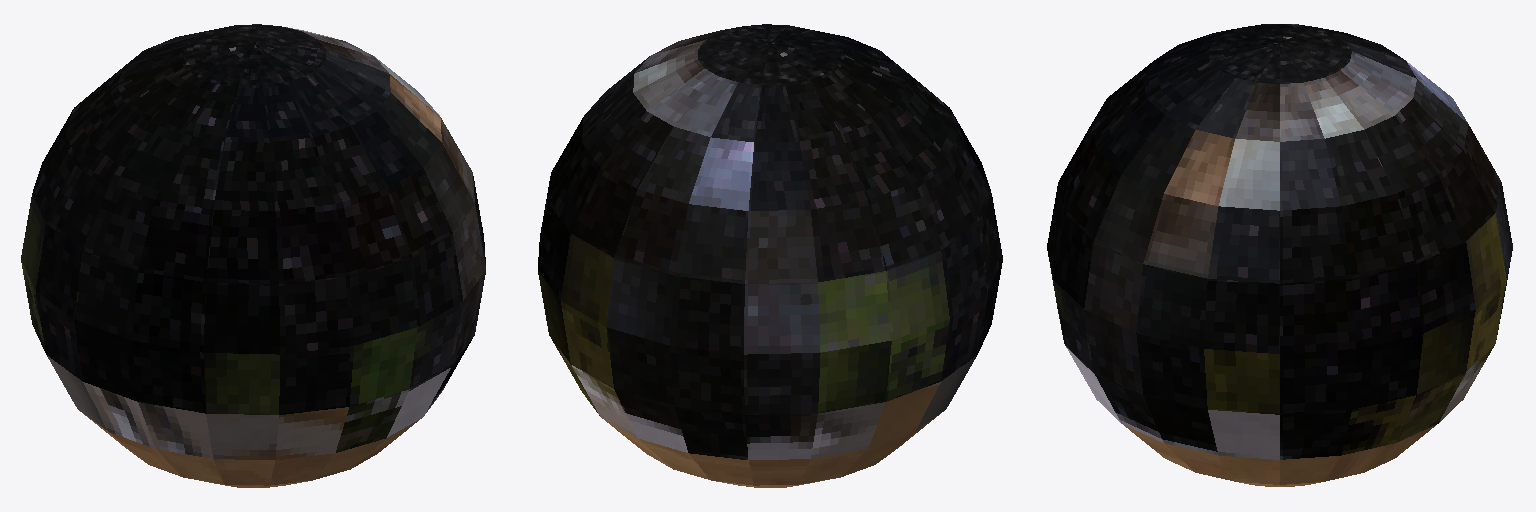
3 views of the same model, side by side, from view 1: azimuth 30°, elevation 25°; view 2: azimuth 150°, elevation 25°; view 3: azimuth 270°, elevation 25° (orthographic).
Visible parts, largest first — view 1: pSphere1; view 2: pSphere1; view 3: pSphere1.
Part boxes in pixels (bbox=[...]): pSphere1: bbox=[21, 24, 485, 487]; pSphere1: bbox=[538, 24, 1002, 487]; pSphere1: bbox=[1047, 24, 1512, 486].
Size of the model in its own units: 1.99 by 2 by 1.99.
Materials: 1 (1 with a texture image).